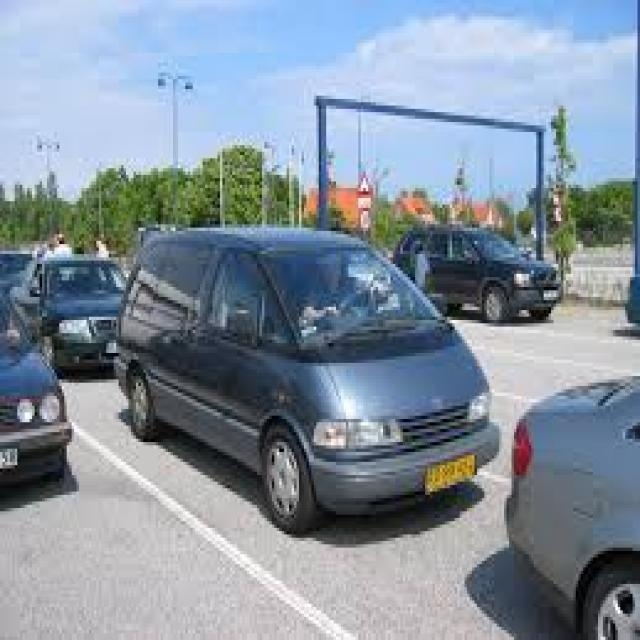Van: (114, 225, 502, 534)
